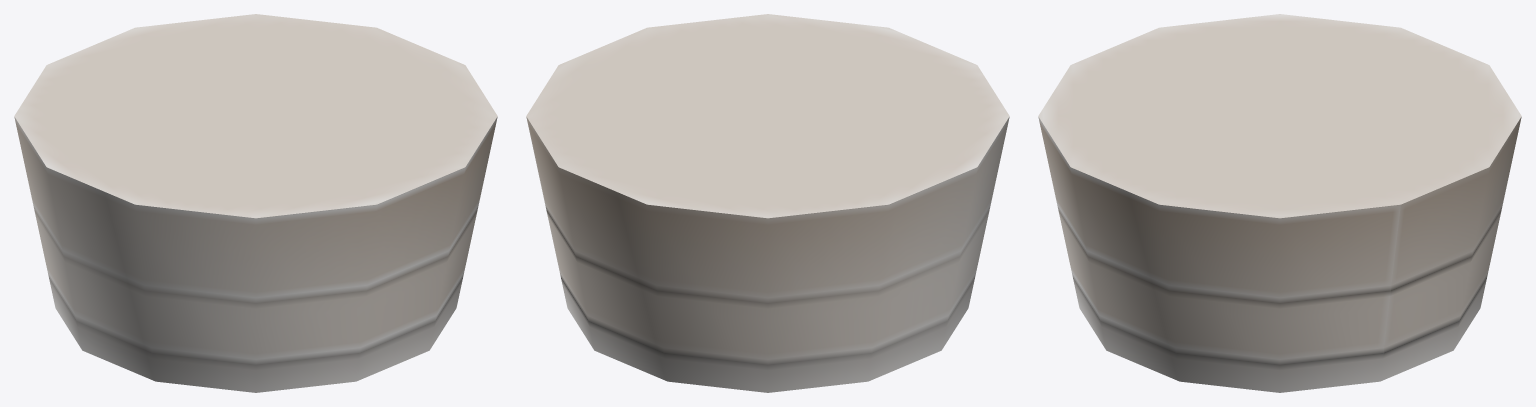
The model's file is Ceiling_parts_03_01.fbx.
3 views of the same model, side by side, from view 1: azimuth 30°, elevation 25°; view 2: azimuth 150°, elevation 25°; view 3: azimuth 270°, elevation 25° (orthographic).
Parts seen in each view (by area): view 1: ceiling_parts_03_01; view 2: ceiling_parts_03_01; view 3: ceiling_parts_03_01.
Part boxes in pixels (bbox=[...]): ceiling_parts_03_01: bbox=[14, 14, 497, 392]; ceiling_parts_03_01: bbox=[526, 14, 1009, 392]; ceiling_parts_03_01: bbox=[1038, 14, 1521, 392].
Size of the model in its own units: 11.7 by 6.17 by 11.7.
